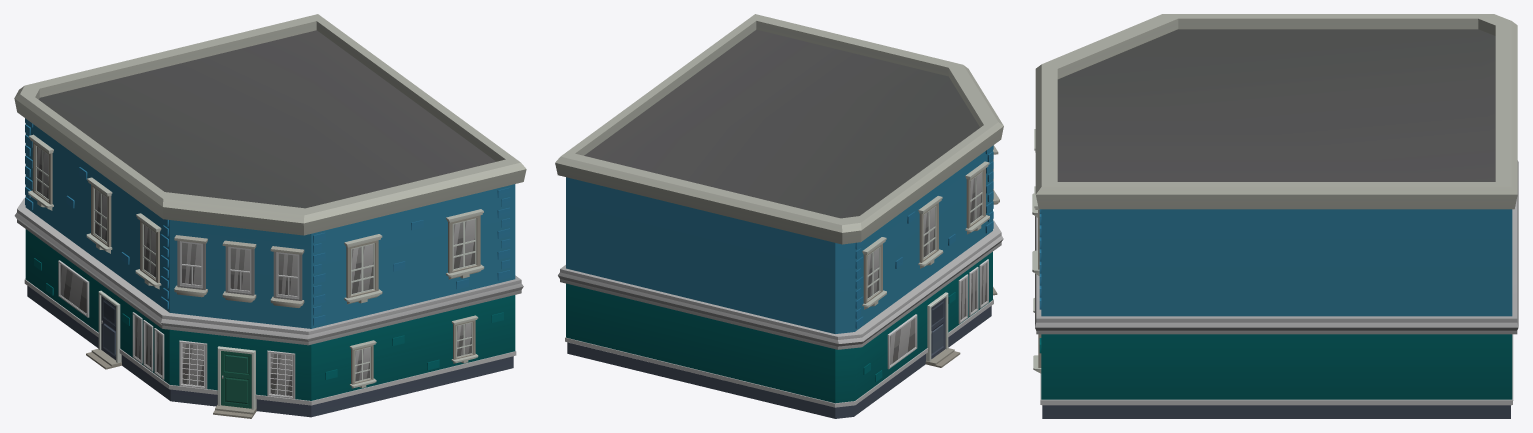
File: Building_25_4_F.glb
3 renders of one model, left to right at view 1: azimuth 30°, elevation 25°; view 2: azimuth 150°, elevation 25°; view 3: azimuth 270°, elevation 25°, orthographic. The views are drawn at different scales.
Visible parts, largest first — view 1: Building_25_4_F; view 2: Building_25_4_F; view 3: Building_25_4_F.
Boxes of the visible parts, x1,y1,x2,y2 form: Building_25_4_F: (14, 14, 526, 418); Building_25_4_F: (555, 14, 1003, 418); Building_25_4_F: (1032, 14, 1518, 418).
Bounding box in the file's own units: 12.91 × 7.93 × 14.79.
3 materials, 3 textured.
